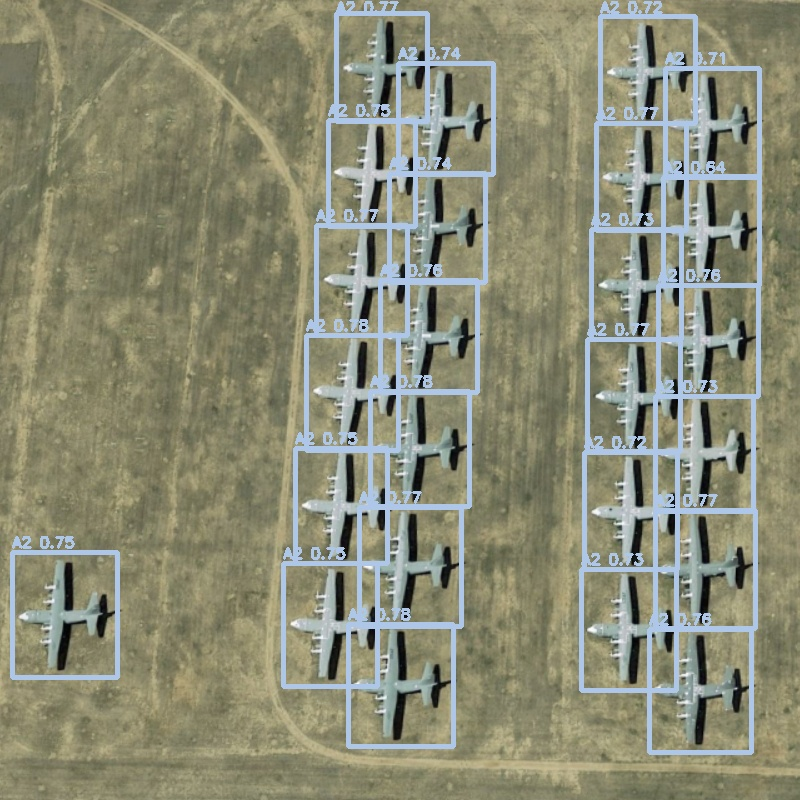A2: (12, 552, 117, 677), (348, 624, 453, 746), (649, 629, 751, 752), (359, 507, 461, 626), (655, 510, 755, 628), (283, 563, 377, 686), (581, 569, 676, 690), (370, 391, 469, 506), (655, 396, 753, 511), (658, 285, 758, 396), (584, 452, 677, 569), (380, 280, 477, 392), (306, 335, 398, 450), (295, 448, 387, 563), (398, 63, 493, 174), (389, 173, 485, 282), (587, 339, 680, 451), (663, 177, 759, 285), (600, 16, 695, 123), (665, 68, 759, 176), (316, 225, 407, 335), (591, 229, 681, 339), (336, 13, 427, 121), (596, 123, 686, 230), (328, 120, 415, 226)
